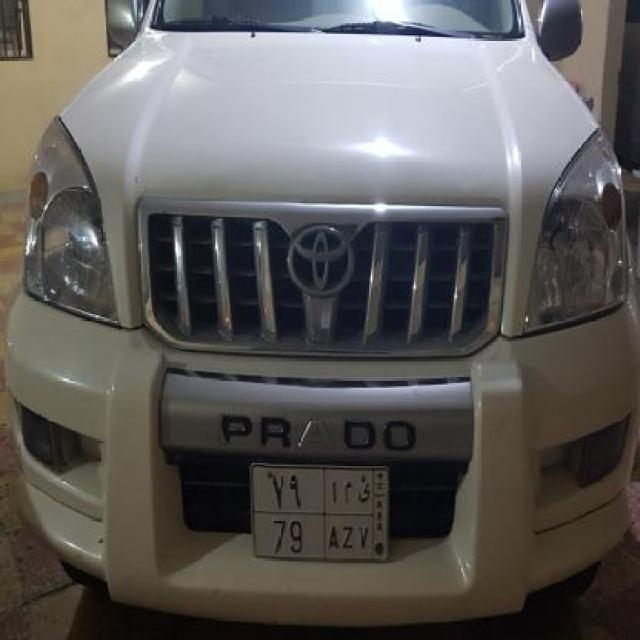license_plate: (248, 459, 392, 567)
